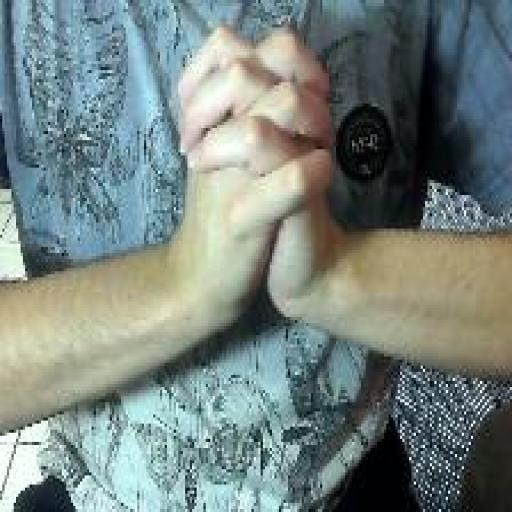Mi -snake-: (173, 16, 337, 330)
